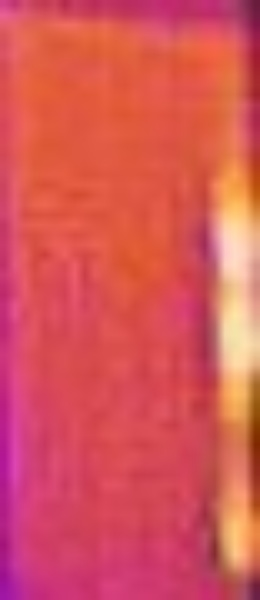Diode: (200, 168, 260, 581)
